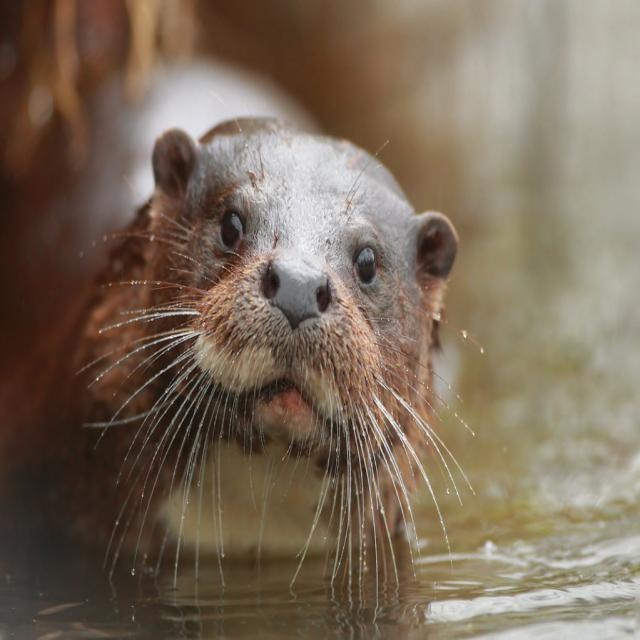otter: (145, 117, 452, 533)
